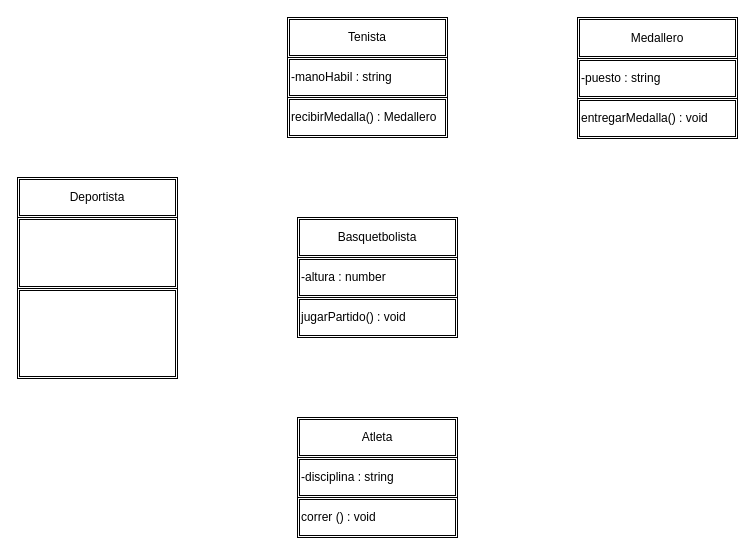
The diagram is 755 pixels wide and 555 high, and some of its shapes have lost their labels. The centre of each missing label's shape, as x and y in pixels:
#nombre : string -edad : number +deporte : string: the point at 97,252
entrenar () : void descansar() : void: the point at 97,333
